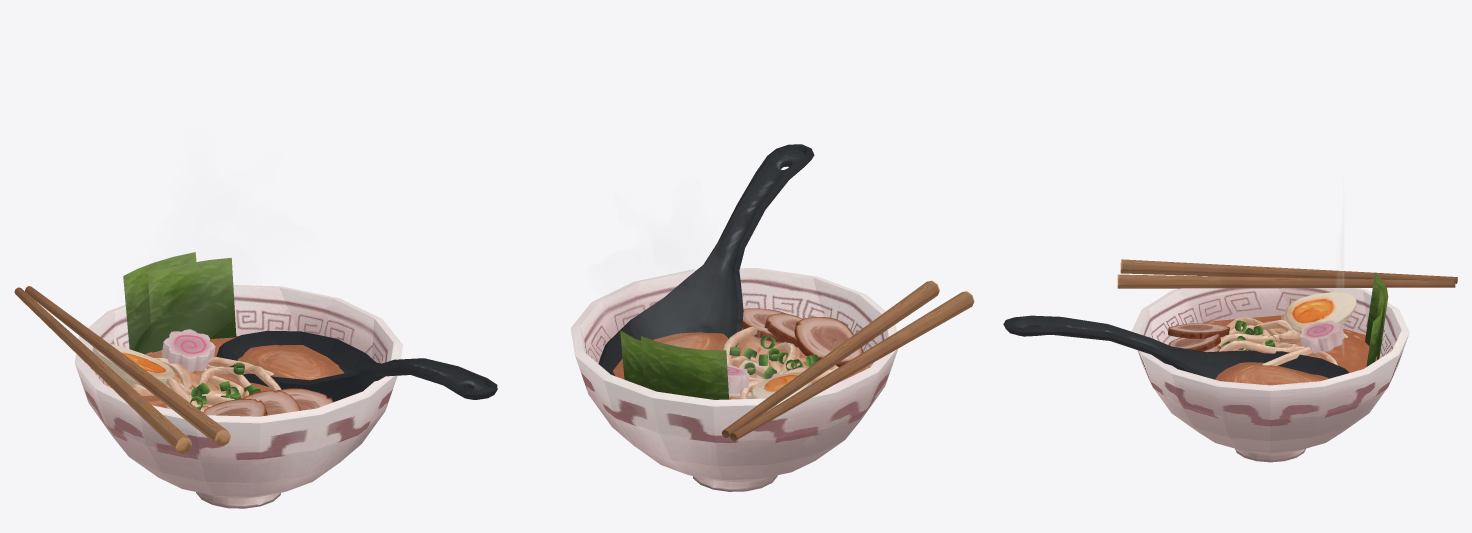
File: ramen.glb
3 renders of one model, left to right at view 1: azimuth 30°, elevation 25°; view 2: azimuth 150°, elevation 25°; view 3: azimuth 270°, elevation 25°, orthographic. The views are drawn at different scales.
Parts seen in each view (by area): view 1: Object_4, Object_6, Object_5, Object_7; view 2: Object_4, Object_6, Object_5, Object_7; view 3: Object_4, Object_5, Object_7, Object_6.
Part boxes in pixels (<box>): Object_4: <box>14,285,497,508</box>; Object_6: <box>123,252,333,416</box>; Object_5: <box>110,336,344,411</box>; Object_7: <box>92,329,260,409</box>; Object_4: <box>570,144,974,491</box>; Object_6: <box>620,308,863,399</box>; Object_5: <box>613,327,870,399</box>; Object_7: <box>727,335,818,398</box>; Object_4: <box>1003,259,1457,462</box>; Object_5: <box>1180,314,1377,385</box>; Object_7: <box>1222,292,1356,352</box>; Object_6: <box>1168,272,1388,366</box>.
Size of the model in its own units: 0.806 by 0.8268 by 0.9635.
5 materials, 5 textured.
